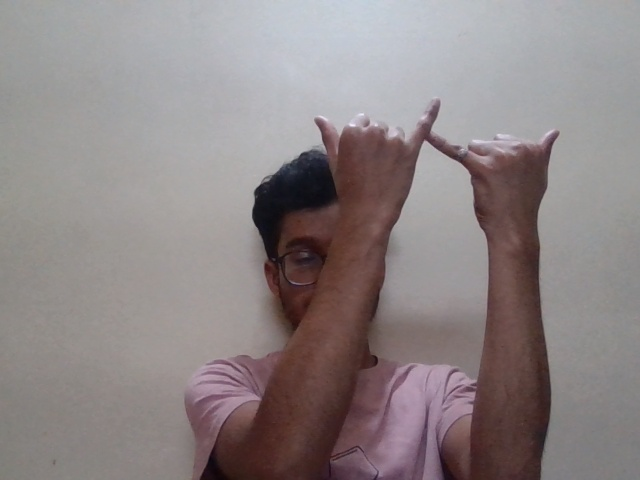today: (297, 94, 567, 236)
